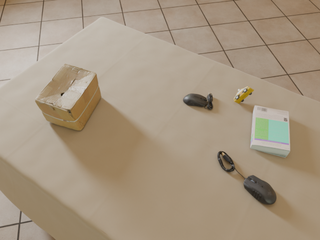book: (251, 106, 290, 157)
box: (35, 64, 101, 130)
mouse: (244, 175, 276, 204), (183, 93, 213, 110)
toy_car: (234, 87, 254, 103)
